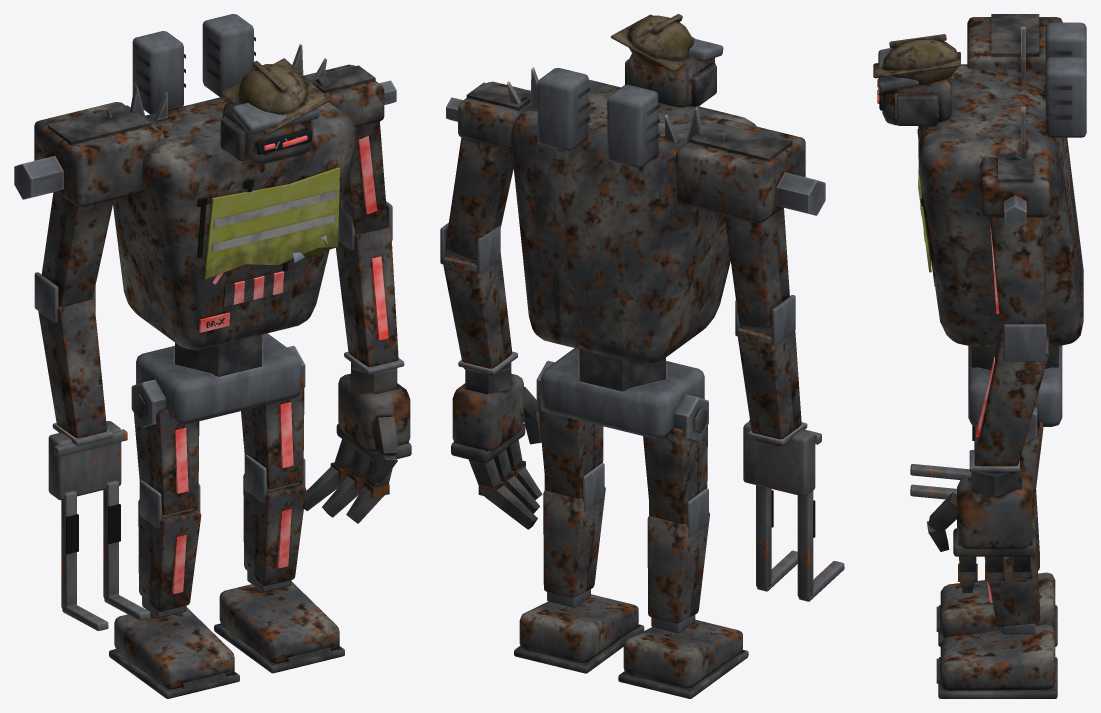
File: brute_night.fbx
3 renders of one model, left to right at view 1: azimuth 30°, elevation 25°; view 2: azimuth 150°, elevation 25°; view 3: azimuth 270°, elevation 25°, orthographic. The views are drawn at different scales.
Visible parts, largest first — view 1: Torso, UpperArm, LeftShin, Shin, LeftHand, Hand, Head, LeftUpperArm, LeftForearm, Forearm, Thigh, LeftThigh; view 2: Torso, UpperArm, Shin, LeftShin, LeftUpperArm, LeftHand, Hand, Head, Thigh, LeftForearm, Forearm, LeftThigh; view 3: Torso, LeftUpperArm, LeftShin, LeftHand, Head, LeftForearm, UpperArm, Shin, Hand, LeftThigh.
Part boxes in pixels (x1,y1,x2,y2): Torso: [107, 14, 356, 424]; UpperArm: [14, 102, 164, 322]; LeftShin: [214, 474, 344, 673]; Shin: [109, 499, 239, 698]; LeftHand: [304, 362, 411, 523]; Hand: [48, 421, 150, 630]; Head: [220, 58, 329, 164]; LeftUpperArm: [304, 64, 396, 250]; LeftForearm: [336, 226, 404, 374]; Forearm: [38, 299, 112, 445]; Thigh: [131, 379, 200, 528]; LeftThigh: [241, 345, 305, 503]; Torso: [499, 67, 756, 438]; UpperArm: [676, 118, 825, 345]; Shin: [618, 512, 748, 698]; LeftShin: [514, 487, 644, 673]; LeftUpperArm: [440, 81, 530, 273]; LeftHand: [451, 362, 542, 529]; Hand: [743, 420, 844, 601]; Head: [610, 14, 723, 107]; Thigh: [643, 394, 708, 536]; LeftForearm: [442, 249, 517, 375]; Forearm: [737, 325, 807, 446]; LeftThigh: [536, 360, 604, 511]; Torso: [917, 22, 1086, 426]; LeftUpperArm: [980, 153, 1049, 361]; LeftShin: [936, 510, 1057, 698]; LeftHand: [927, 472, 1036, 592]; Head: [873, 34, 960, 125]; LeftForearm: [969, 329, 1048, 473]; UpperArm: [967, 14, 1062, 73]; Shin: [936, 489, 1057, 646]; Hand: [910, 425, 977, 499]; LeftThigh: [1018, 407, 1043, 514].
Bounding box in the file's own units: 5.27 × 8.38 × 2.6.
1 material, 1 textured.
